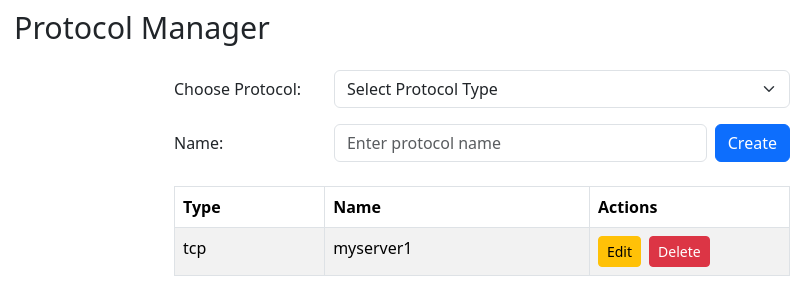
Test case: ProtocolManager Component › remove a protocol
Step 1. Click the button "Delete" → (679, 251), box [649,236,710,266]
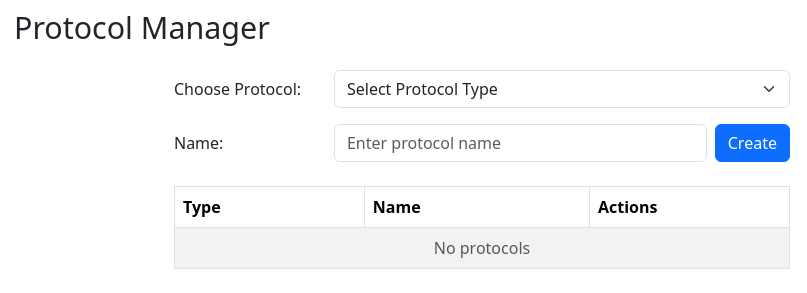
Now the text "myserver1" is gone
